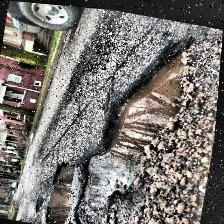pothole: (73, 18, 202, 224), (45, 156, 83, 224)
